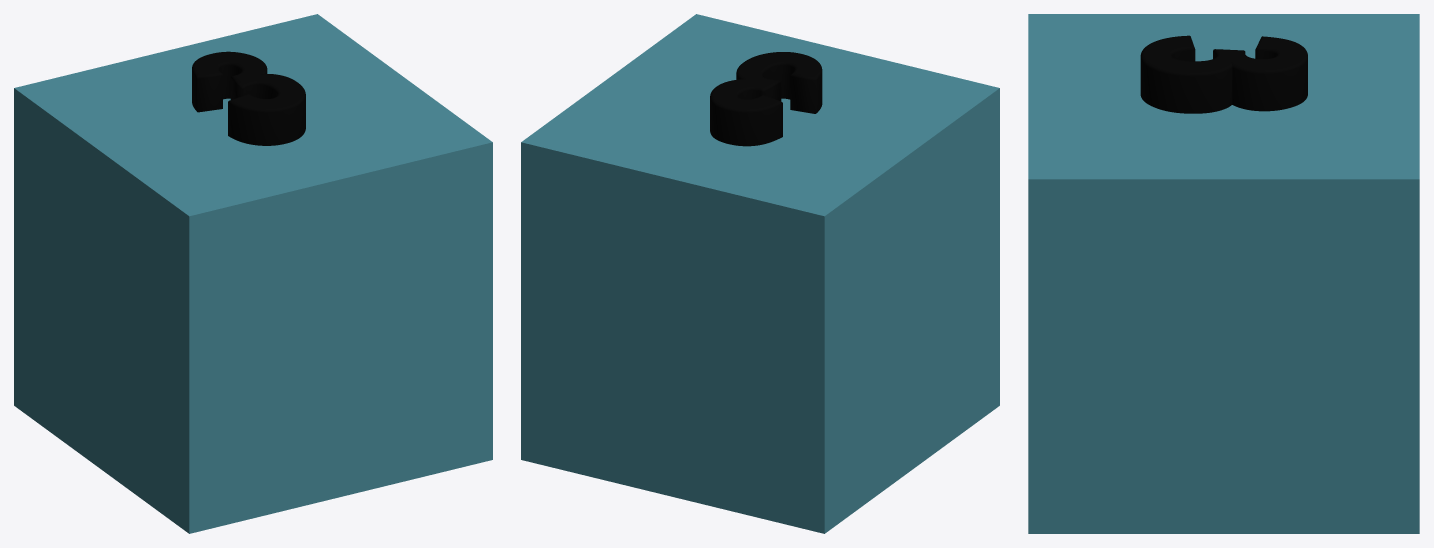
File: level3.fbx
The picture shows the model from 3 angles, left to right: view 1: azimuth 30°, elevation 25°; view 2: azimuth 150°, elevation 25°; view 3: azimuth 270°, elevation 25°; orthographic projection. The views are drawn at different scales.
Visible parts, largest first — view 1: Text; view 2: Text; view 3: Text.
Boxes of the visible parts, bbox=[...] form: Text: bbox=[14, 14, 492, 533]; Text: bbox=[521, 14, 999, 533]; Text: bbox=[1028, 14, 1419, 533].
Size of the model in its own units: 200 by 223 by 200.
